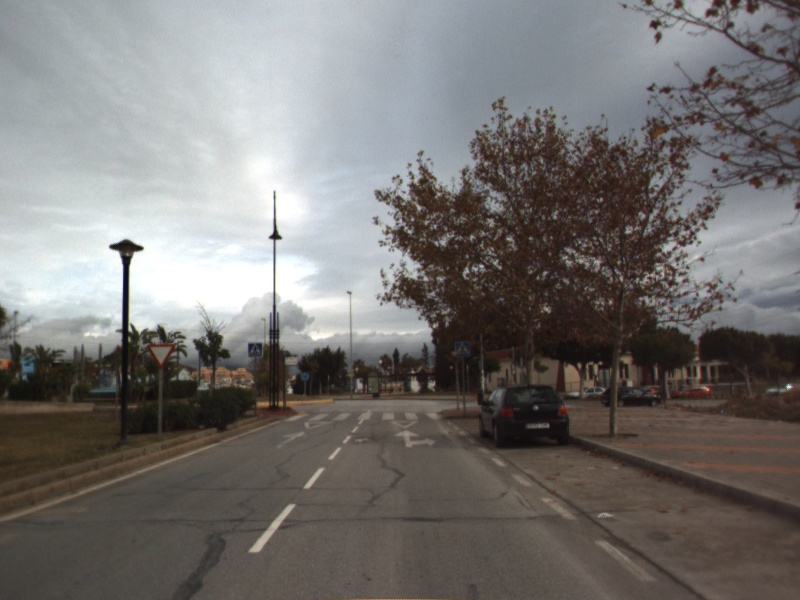STRAIGHT: (274, 429, 309, 450)
STRAIGHT_RIGHT: (392, 428, 438, 449)
